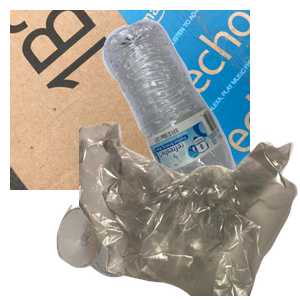cardboard: (10, 10, 250, 190)
glass: (54, 202, 193, 300)
plastic: (100, 16, 300, 196)
trash: (79, 120, 300, 300)
